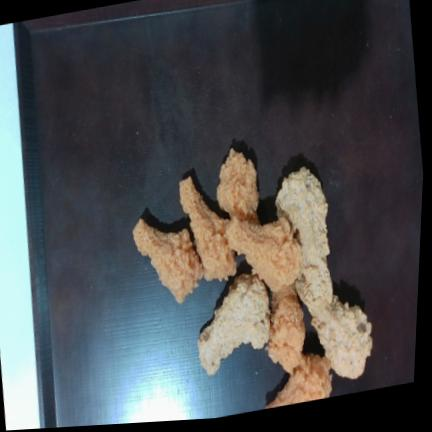chicken: (275, 167, 332, 315), (197, 274, 269, 374), (179, 176, 236, 280), (133, 218, 202, 302), (226, 216, 301, 291), (312, 295, 372, 378), (266, 353, 331, 408), (266, 284, 304, 372), (216, 148, 258, 221)
